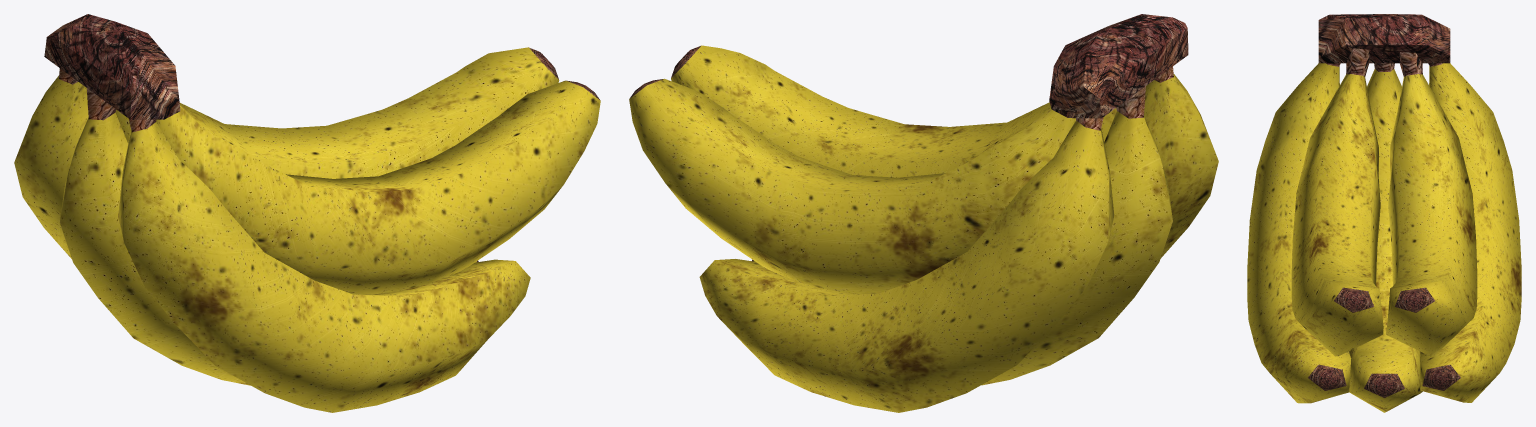
File: Bananas.fbx
3 renders of one model, left to right at view 1: azimuth 30°, elevation 25°; view 2: azimuth 150°, elevation 25°; view 3: azimuth 270°, elevation 25°, orthographic. The views are drawn at different scales.
Visible parts, largest first — view 1: Banana3, Banana1, Banana2, Banana4, Stalk, Banana5; view 2: Banana5, Banana2, Banana1, Banana4, Stalk, Banana3; view 3: Banana1, Banana2, Banana3, Banana5, Banana4, Stalk.
Boxes of the visible parts, left/top/right/bottom form: Banana3: left=118, top=119, right=530, bottom=412; Banana1: left=156, top=80, right=600, bottom=294; Banana2: left=115, top=47, right=559, bottom=178; Banana4: left=60, top=88, right=478, bottom=385; Stalk: left=44, top=14, right=180, bottom=119; Banana5: left=14, top=68, right=88, bottom=258; Banana5: left=699, top=117, right=1114, bottom=412; Banana2: left=629, top=78, right=1075, bottom=293; Banana1: left=671, top=45, right=1116, bottom=177; Banana4: left=752, top=86, right=1172, bottom=385; Stalk: left=1049, top=14, right=1188, bottom=118; Banana3: left=1144, top=66, right=1218, bottom=258; Banana1: left=1291, top=48, right=1383, bottom=356; Banana2: left=1386, top=52, right=1477, bottom=356; Banana3: left=1247, top=63, right=1351, bottom=403; Banana5: left=1420, top=63, right=1521, bottom=402; Banana4: left=1348, top=63, right=1422, bottom=412; Stalk: left=1318, top=14, right=1450, bottom=63.
Size of the model in its own units: 18.08 by 13.26 by 10.96.
2 materials, 2 textured.
